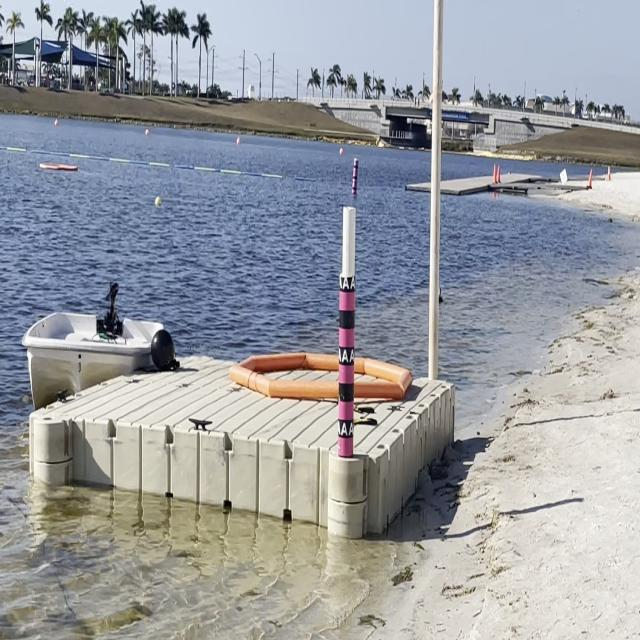buoy: (154, 195, 162, 208)
